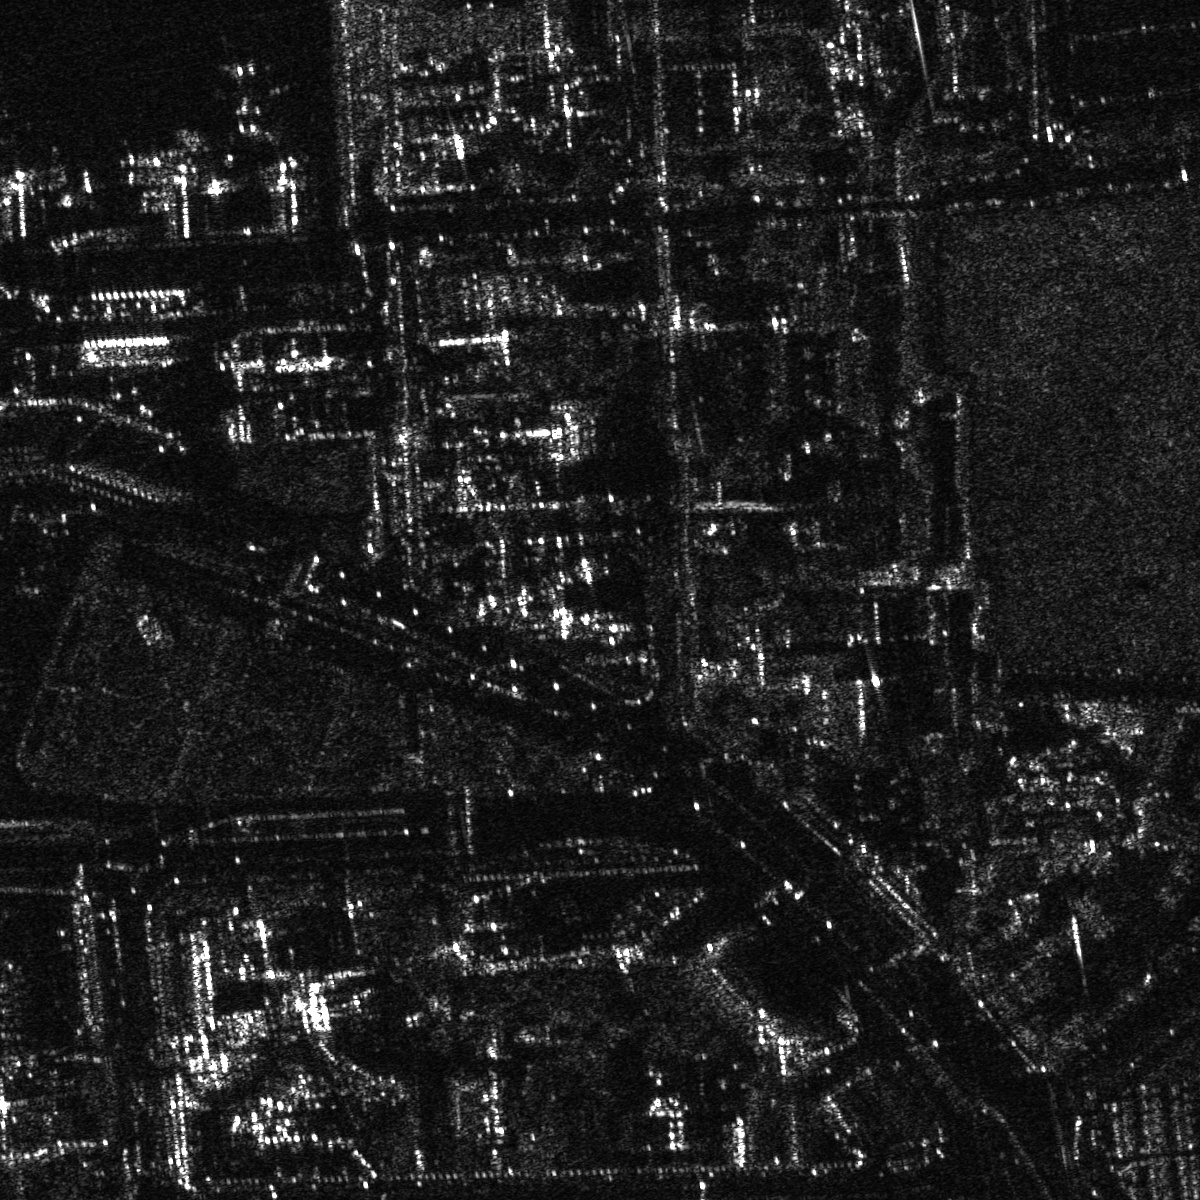A220: (205, 59, 297, 144)
